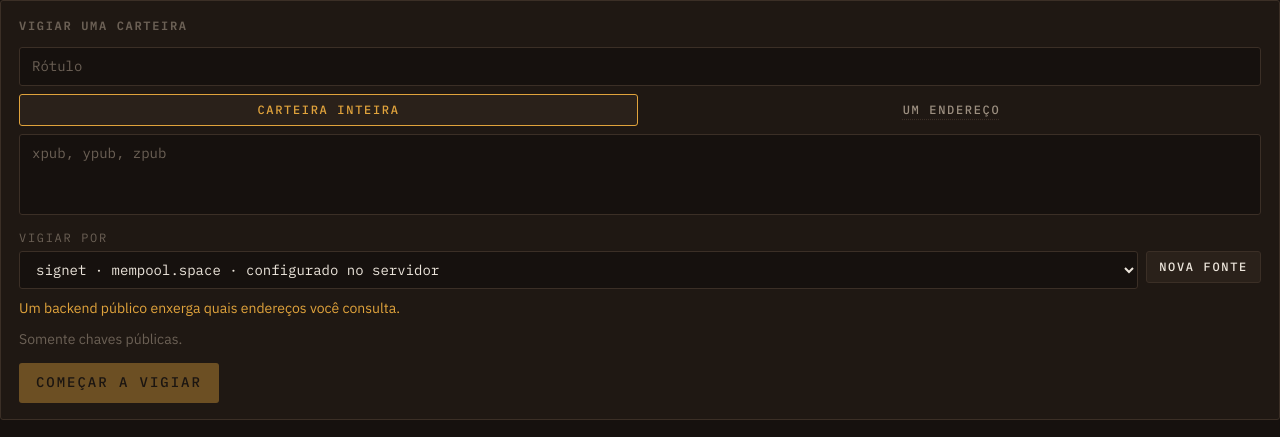
Test: AddWallet — escolha de backend › avisa que o modo de endereço vigia só aquele endereço
Expected: the dropdown labelled "Vigiar por" is shown, x1=19 y1=251 x2=1138 y2=289
Click the button "Um endereço": (952, 110) x1=642 y1=94 x2=1261 y2=126
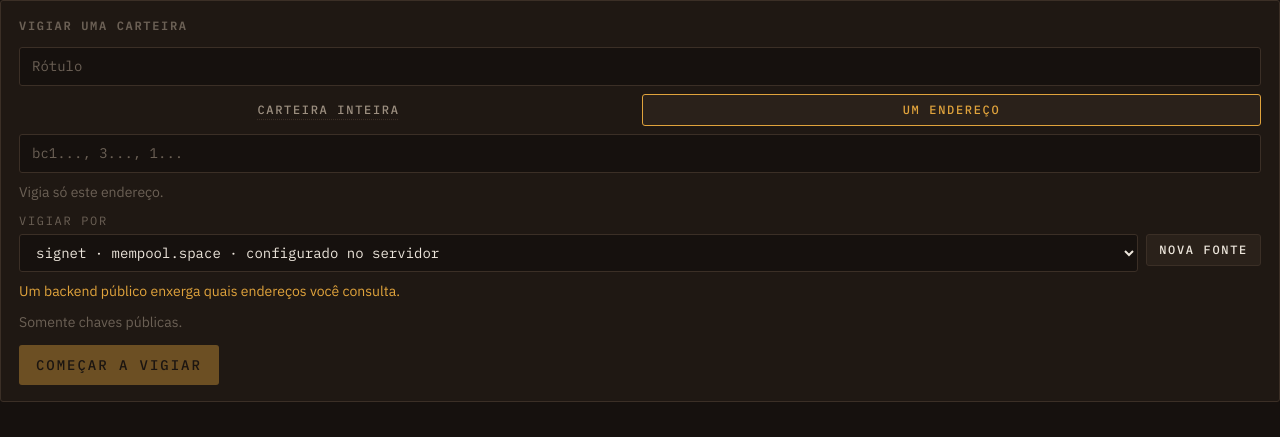
Now the text "Vigia só este endereço." is shown, box x1=19 y1=183 x2=163 y2=201
